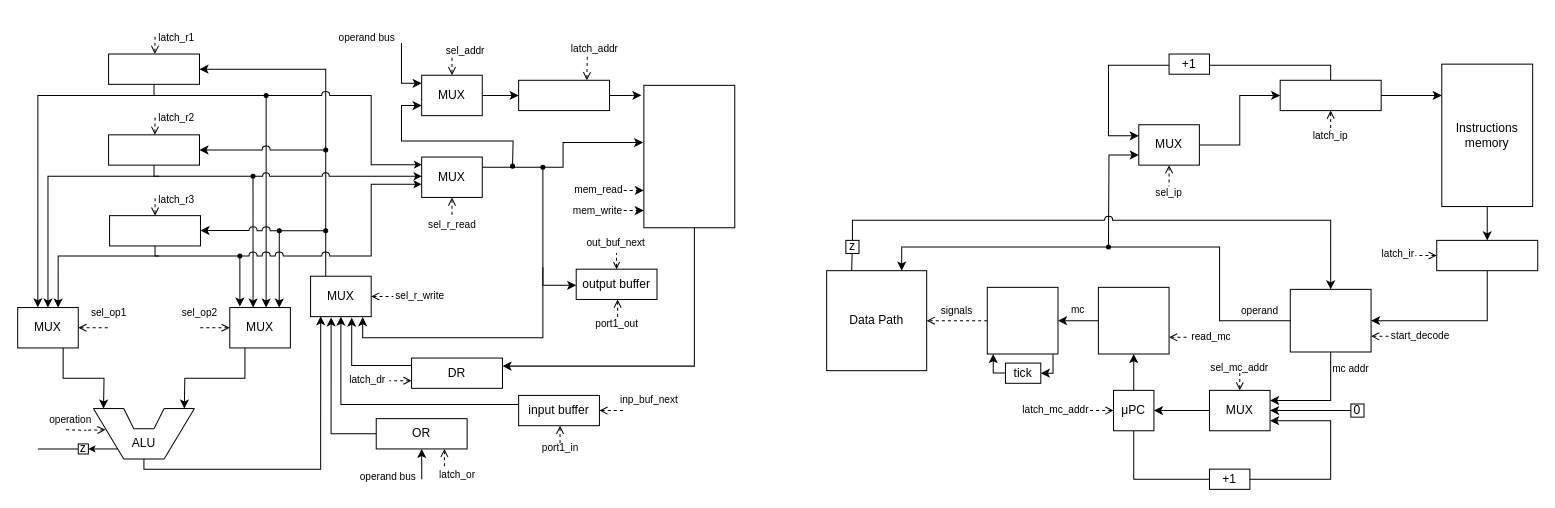
This 1555x508 diagram has some shape labels left out. Here are the shapes that lost their labels. From the top down, the centre of each, then its label:
the point at 153,68: R1
the point at 564,95: AR
the point at 1330,95: IP
the point at 153,149: R2
the point at 689,156: Data memory
the point at 154,230: R3
the point at 1487,255: IR
the point at 1022,320: Control Logic
the point at 1133,320: Control Store
the point at 1330,320: Instruction Decoder
